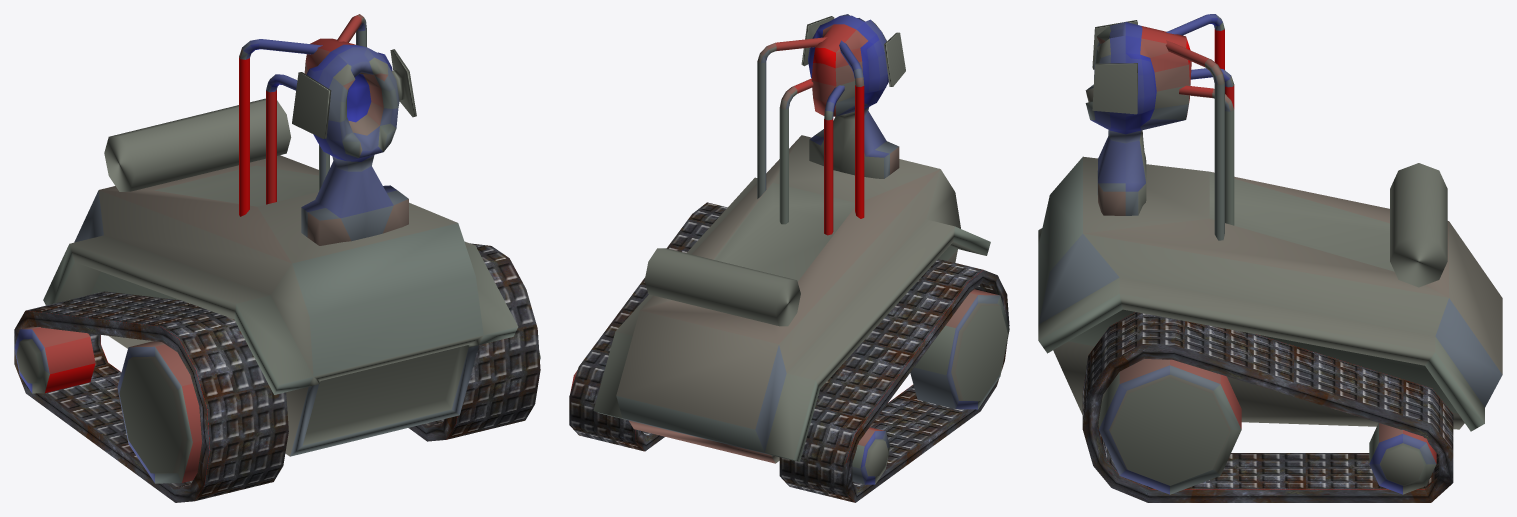
The model's file is WorkerDroid.fbx.
The picture shows the model from 3 angles, left to right: view 1: azimuth 30°, elevation 25°; view 2: azimuth 150°, elevation 25°; view 3: azimuth 270°, elevation 25°; orthographic projection. The views are drawn at different scales.
Visible parts, largest first — view 1: Mesh, Mesh (2); view 2: Mesh, Mesh (2); view 3: Mesh, Mesh (2).
Part boxes in pixels (<box>): Mesh: <box>14,14,540,483</box>; Mesh (2): <box>14,243,540,502</box>; Mesh: <box>570,14,1009,484</box>; Mesh (2): <box>569,202,1009,502</box>; Mesh: <box>1038,14,1502,494</box>; Mesh (2): <box>1082,312,1453,502</box>.
Bounding box in the file's own units: 111 × 126 × 132.
2 materials, 1 textured.
